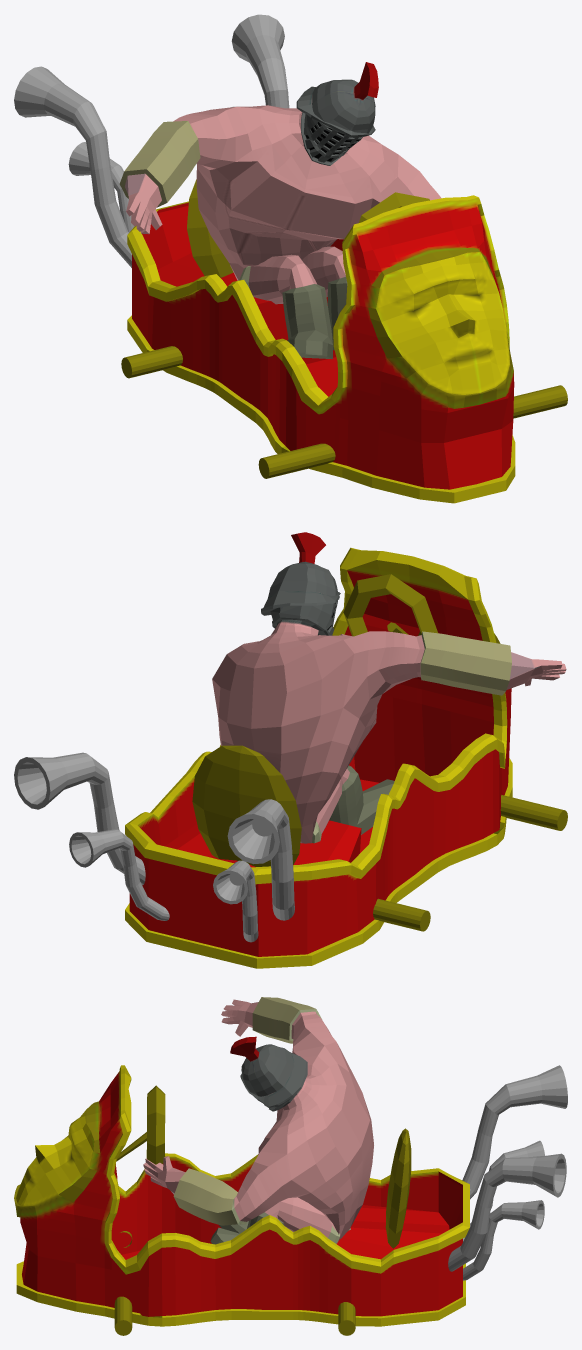
The model's file is gladiVacile_000552.obj.
3 views of the same model, one above another, from view 1: azimuth 30°, elevation 25°; view 2: azimuth 150°, elevation 25°; view 3: azimuth 270°, elevation 25° (orthographic). The views are drawn at different scales.
Parts seen in each view (by area): view 1: GladiChasis_GladiChasisH, Gadiador_Gladiador_H.001, GladiTubos_GladiTubosH, GladiVolante_GladiVolanteH; view 2: GladiChasis_GladiChasisH, Gadiador_Gladiador_H.001, GladiTubos_GladiTubosH, GladiVolante_GladiVolanteH; view 3: GladiChasis_GladiChasisH, Gadiador_Gladiador_H.001, GladiTubos_GladiTubosH, GladiVolante_GladiVolanteH.
Part boxes in pixels (left/top/right/bottom): GladiChasis_GladiChasisH: left=127, top=195, right=515, bottom=503; Gadiador_Gladiador_H.001: left=119, top=62, right=441, bottom=358; GladiTubos_GladiTubosH: left=14, top=14, right=289, bottom=267; GladiVolante_GladiVolanteH: left=121, top=179, right=567, bottom=478; GladiChasis_GladiChasisH: left=125, top=547, right=512, bottom=968; Gadiador_Gladiador_H.001: left=212, top=532, right=566, bottom=843; GladiTubos_GladiTubosH: left=14, top=752, right=294, bottom=942; GladiVolante_GladiVolanteH: left=192, top=574, right=567, bottom=931; GladiChasis_GladiChasisH: left=14, top=1065, right=469, bottom=1326; Gadiador_Gladiador_H.001: left=143, top=997, right=373, bottom=1244; GladiTubos_GladiTubosH: left=448, top=1065, right=567, bottom=1280; GladiVolante_GladiVolanteH: left=114, top=1085, right=411, bottom=1335.
Size of the model in its own units: 6.72 by 5.58 by 10.78.
